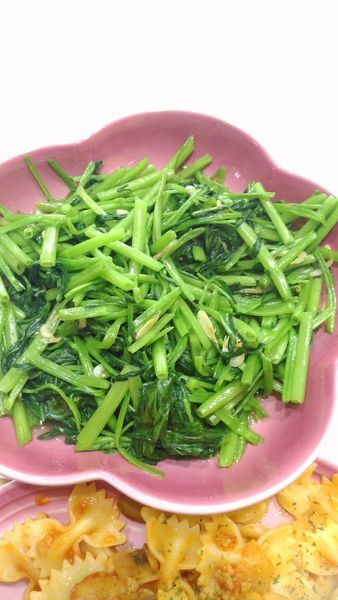water_spinach: (26, 204, 288, 425)
